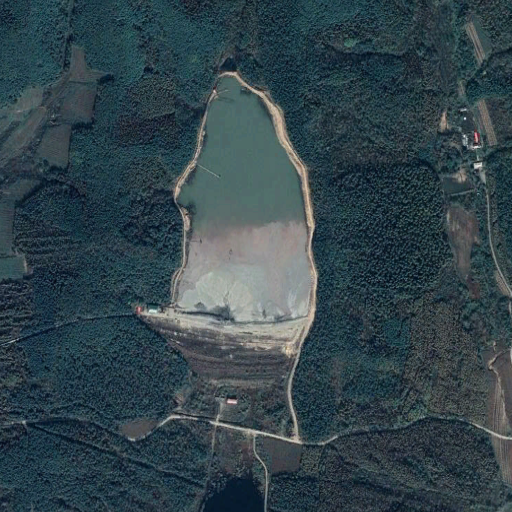tp: (139, 69, 312, 385)
